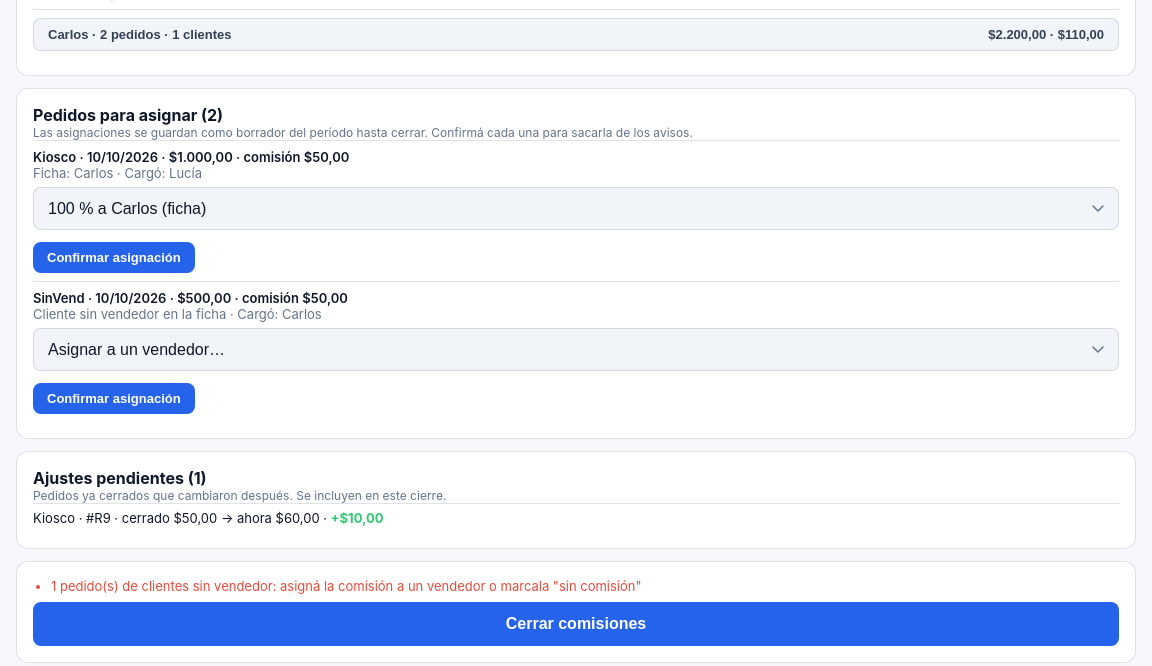
Test: AC-COM-7 AC-COM-8 AC-COM-9 asignación › AC-COM-8 cliente sin vendedor bloquea el cierre hasta asignarlo (otro vendedor o sin comisión)
(page scrolled)
Check: the button "Cerrar comisiones" is disabled, box [33,602,1119,646]
Select "Asignar a un vendedor…" in the dropdown named "Asignación del pedido R4" at [576, 350], box [33,328,1119,371]
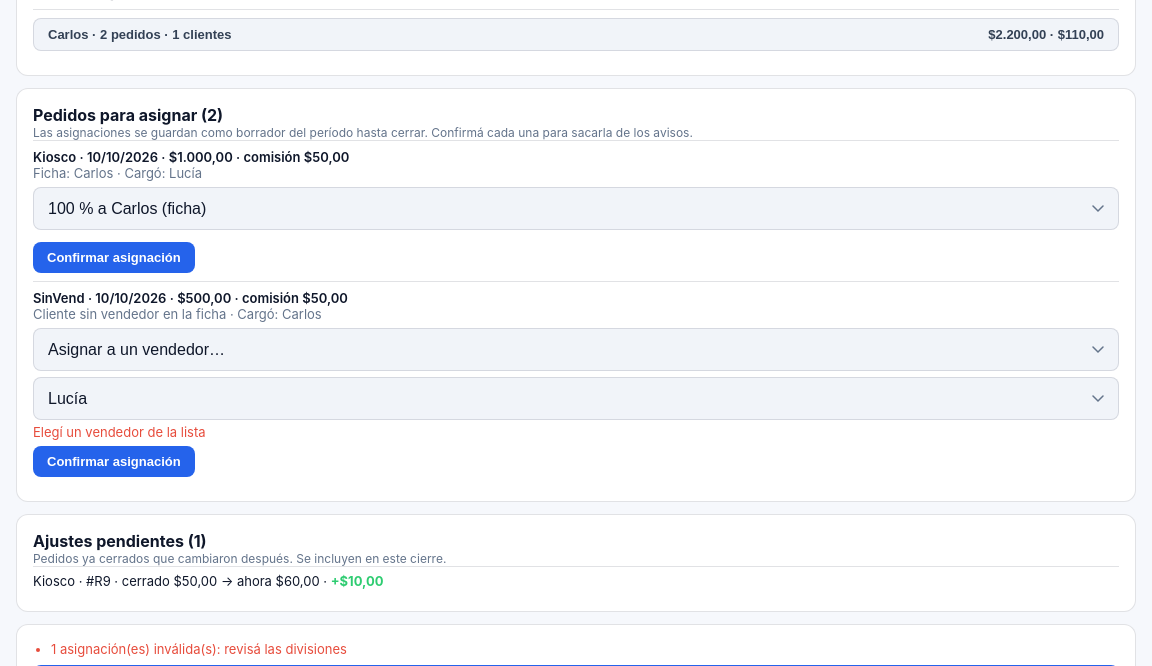
Select "Lucía" in the dropdown named "Vendedor asignado" at [576, 398], box [33,377,1119,420]
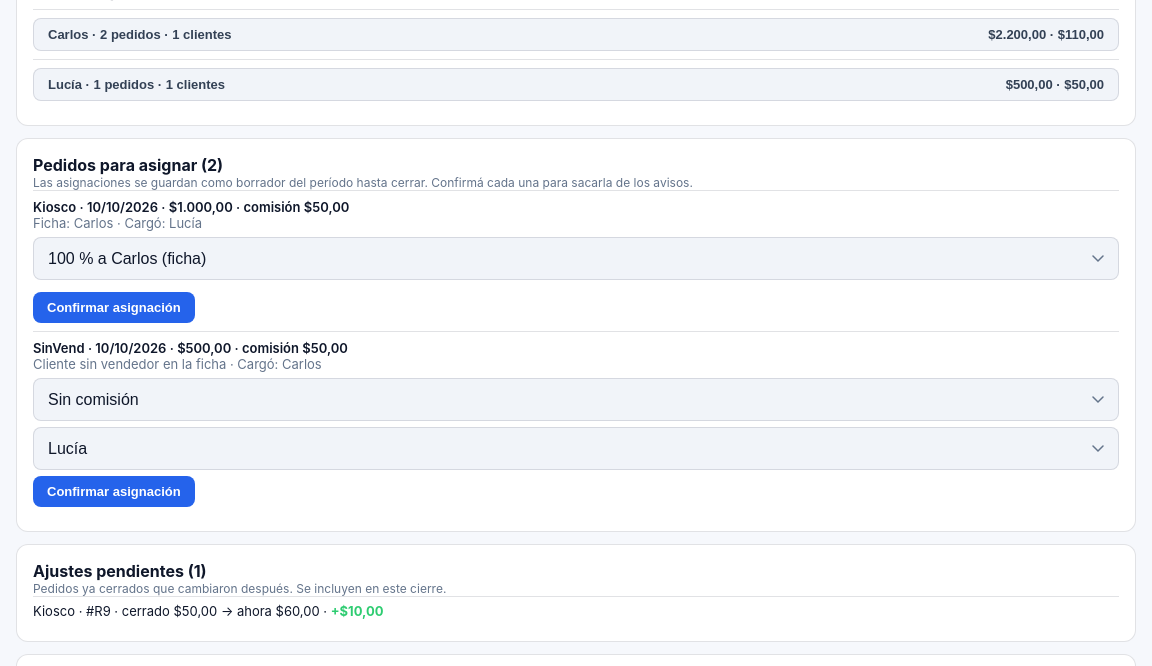
Select "Sin comisión" in the dropdown named "Asignación del pedido R4" at [576, 400], box [33,378,1119,421]
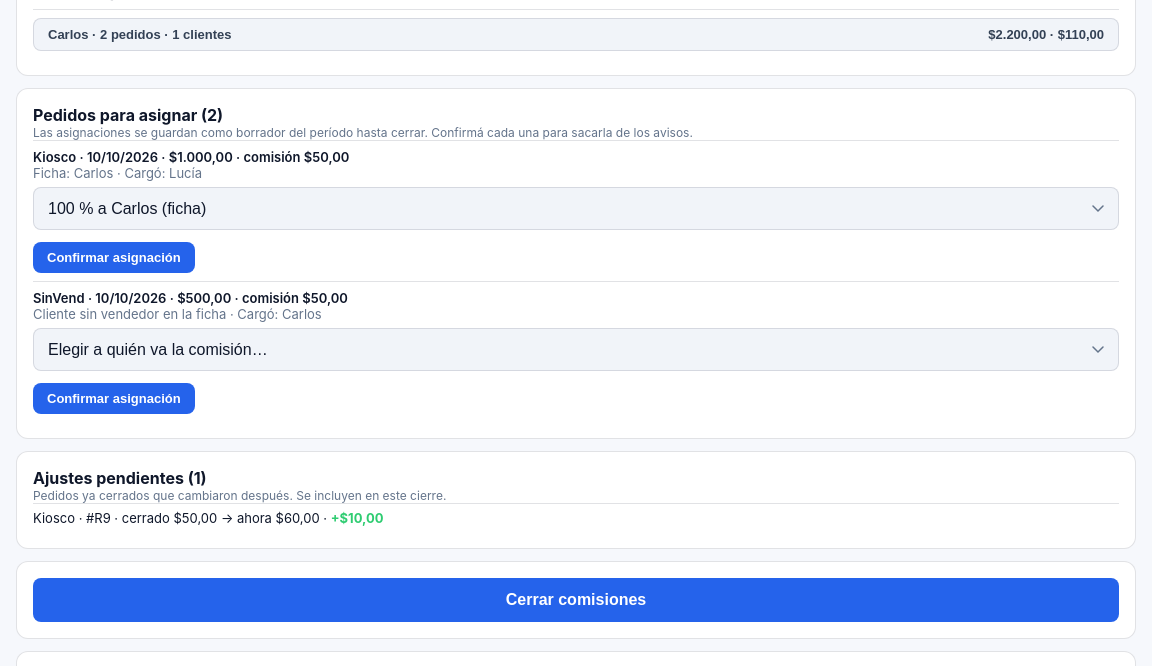
Check: the button "Cerrar comisiones" is enabled, box [33,578,1119,622]
Select "Elegir a quién va la comisión…" in the dropdown named "Asignación del pedido R4" at [576, 350], box [33,328,1119,371]
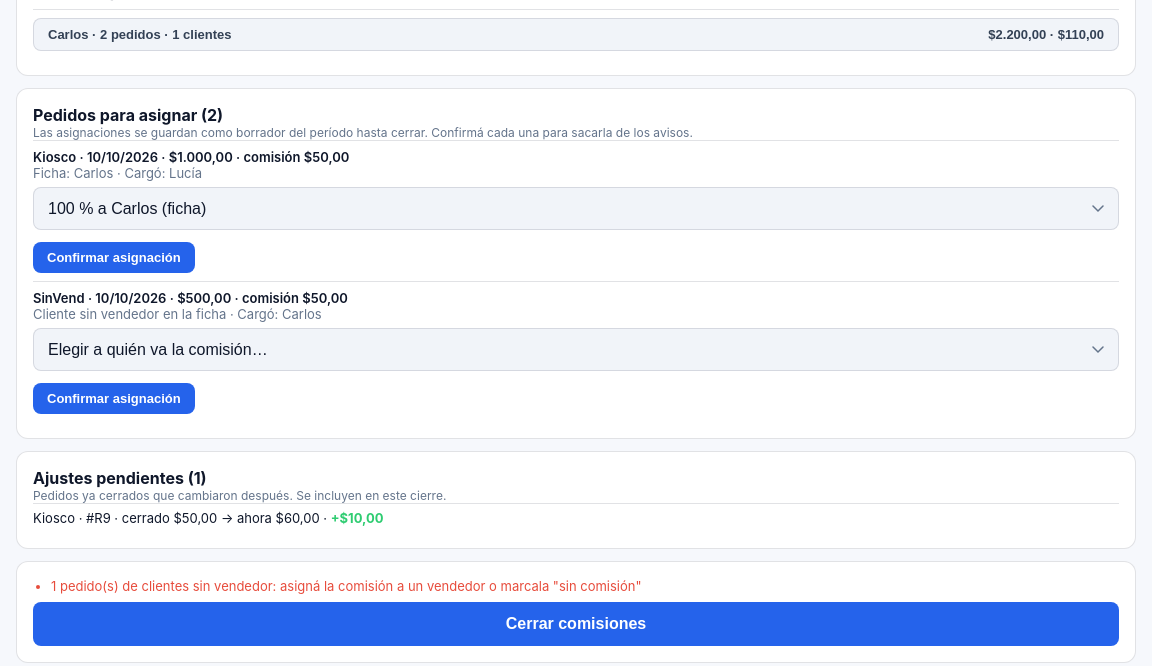
Check: the button "Cerrar comisiones" is disabled, box [33,602,1119,646]
